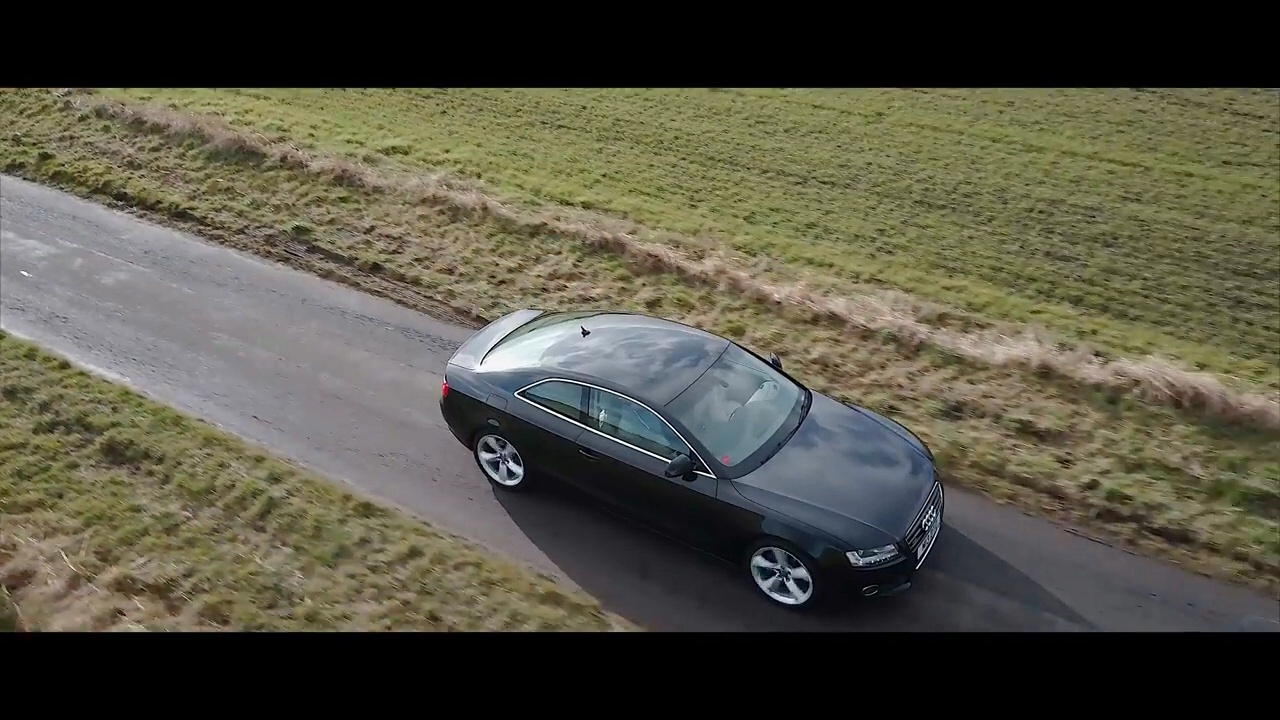araba: (419, 297, 945, 608)
